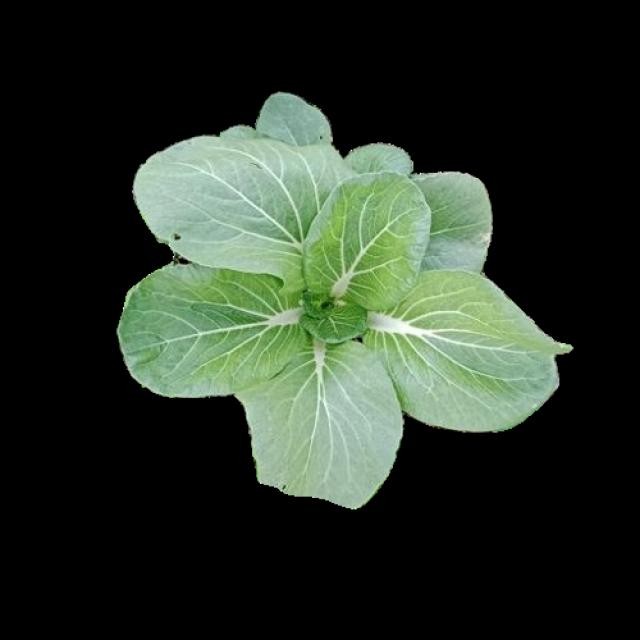healthy: (119, 92, 558, 502)
mature: (122, 95, 560, 504)
